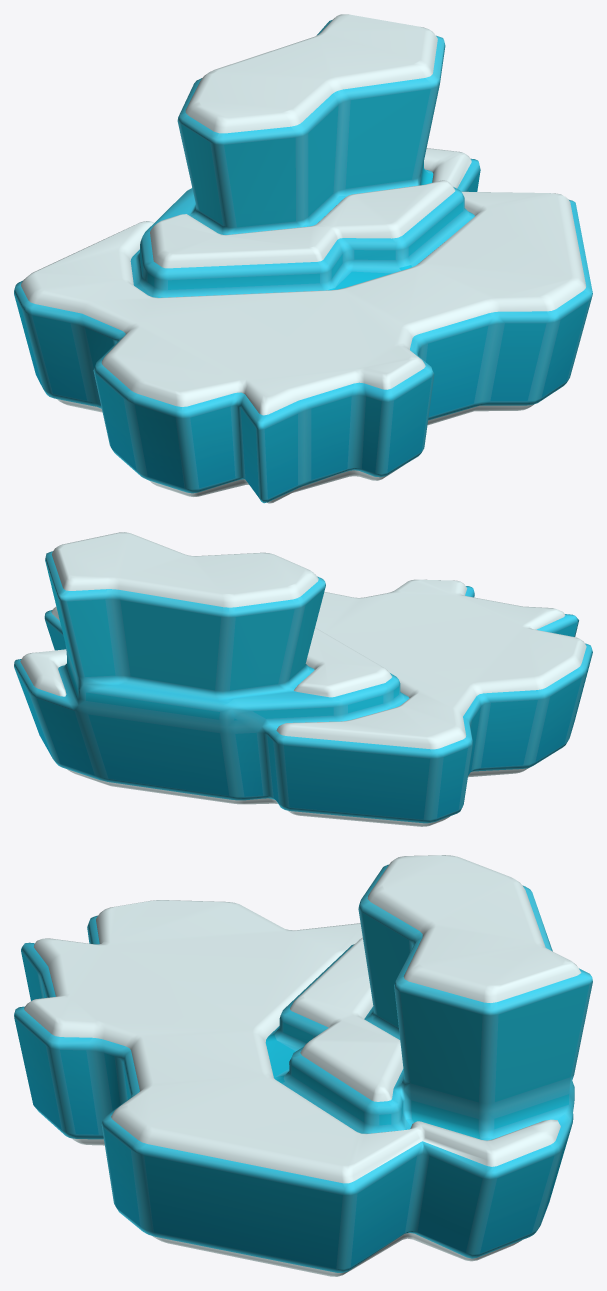
Rendered from ice_005.fbx.
3 renders of one model, top to bottom at view 1: azimuth 30°, elevation 25°; view 2: azimuth 150°, elevation 25°; view 3: azimuth 270°, elevation 25°, orthographic. The views are drawn at different scales.
Visible parts, largest first — view 1: ice_005; view 2: ice_005; view 3: ice_005.
Part boxes in pixels (x1,y1,x2,y2): ice_005: (14, 14, 592, 503); ice_005: (14, 532, 592, 826); ice_005: (14, 855, 592, 1276).
Size of the model in its own units: 744 by 639 by 330.
